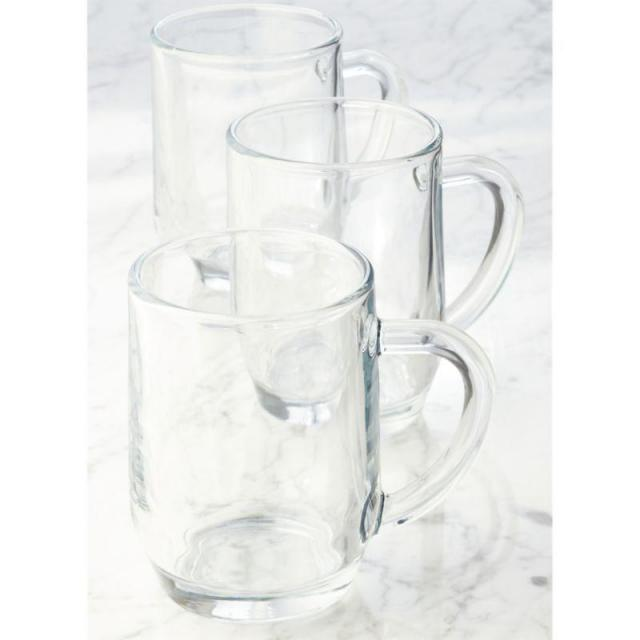glass-mug: (121, 217, 504, 628), (219, 87, 529, 430), (146, 0, 407, 252)
